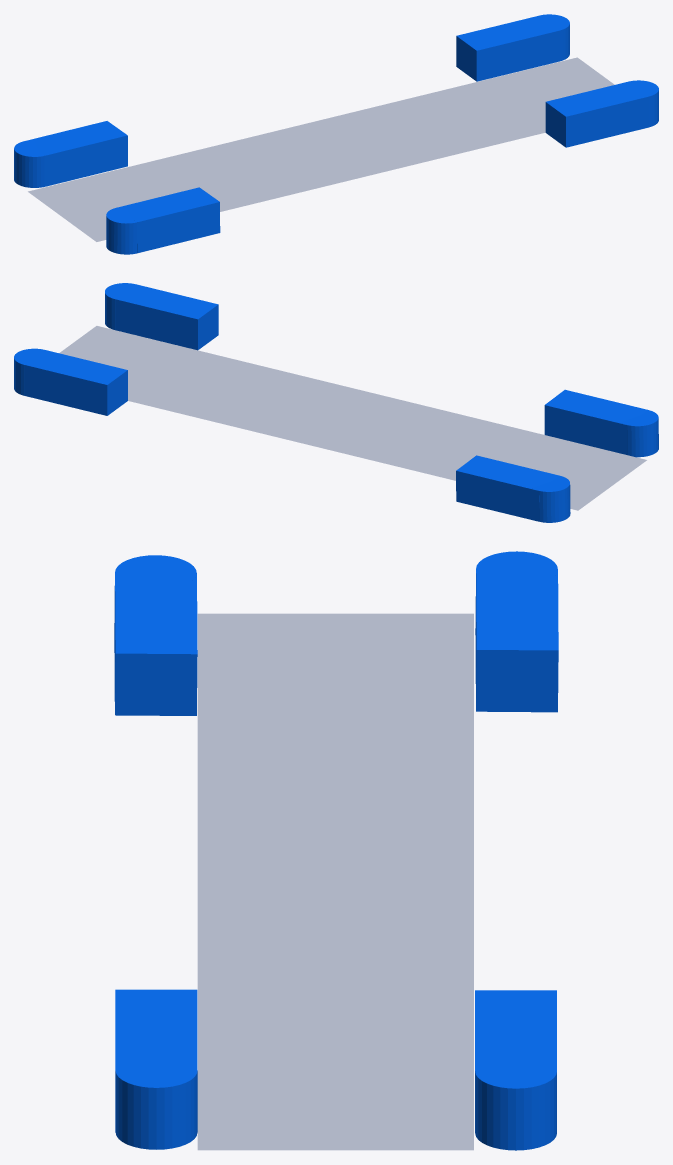
The model's file is suodao_draco.gltf.
3 renders of one model, top to bottom at view 1: azimuth 30°, elevation 25°; view 2: azimuth 150°, elevation 25°; view 3: azimuth 270°, elevation 25°, orthographic. The views are drawn at different scales.
Parts seen in each view (by area): view 1: 平面, 立方体.001, 立方体, 立方体.002, 立方体.003, 柱体.002, 柱体.003, 柱体.001, 柱体.004; view 2: 平面, 立方体, 立方体.001, 立方体.003, 立方体.002, 柱体.003, 柱体.002, 柱体.001, 柱体.004; view 3: 平面, 立方体.003, 立方体.002, 柱体.001, 柱体.004, 立方体, 立方体.001, 柱体.003, 柱体.002.
Part boxes in pixels (x1,y1,x2,y2): 平面: (28,57,614,241); 立方体.001: (456,16,559,81); 立方体: (545,82,648,147); 立方体.002: (120,187,220,253); 立方体.003: (29,121,127,186); 柱体.002: (106,206,137,254); 柱体.003: (14,140,45,187); 柱体.001: (618,80,658,127); 柱体.004: (529,14,569,61); 平面: (59,326,646,510); 立方体: (115,285,218,350); 立方体.001: (25,350,127,415); 立方体.003: (456,455,559,521); 立方体.002: (544,389,647,454); 柱体.003: (532,475,570,522); 柱体.002: (621,410,658,457); 柱体.001: (105,283,145,330); 柱体.004: (14,348,54,395); 平面: (197,613,473,1150); 立方体.003: (475,569,558,712); 立方体.002: (114,573,197,715); 柱体.001: (115,1053,197,1149); 柱体.004: (475,1054,556,1150); 立方体: (115,989,197,1132); 立方体.001: (475,990,556,1070); 柱体.003: (475,551,557,596); 柱体.002: (114,555,196,591).
Bounding box in the file's own units: 37.23 × 2.09 × 13.01.
